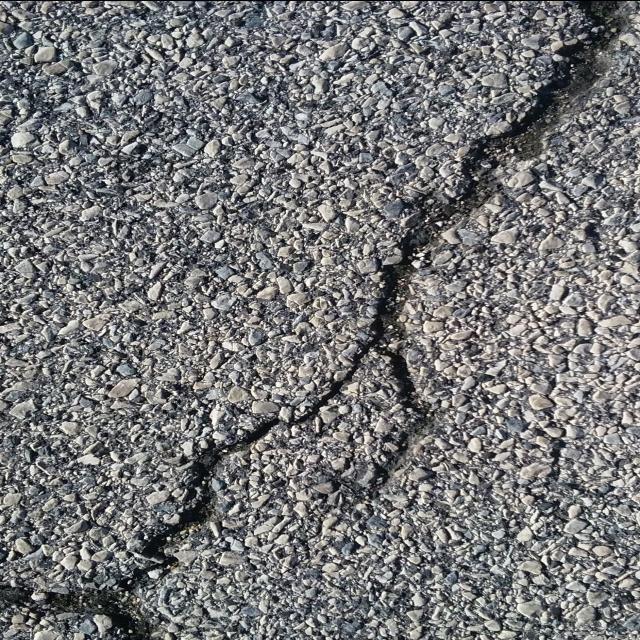Crack: (0, 0, 638, 640)
